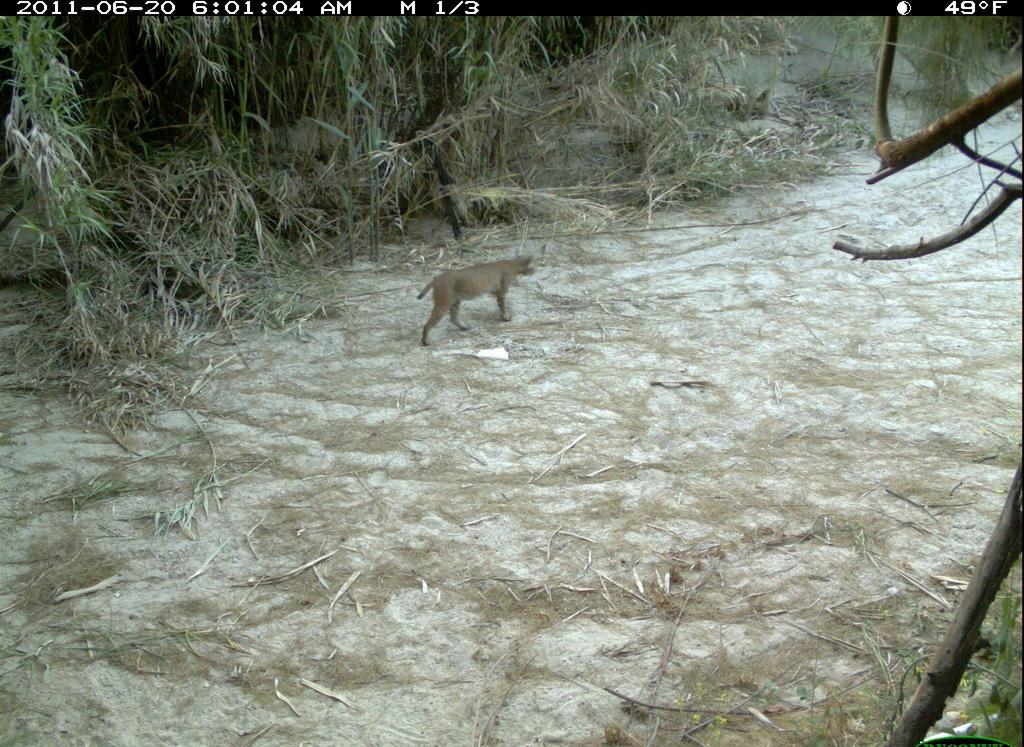bobcat: (401, 248, 552, 353)
